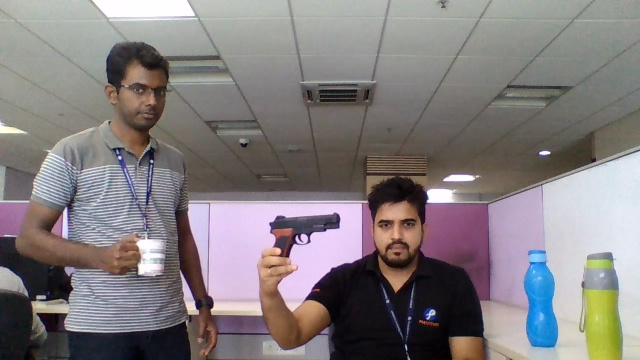gun: (269, 212, 341, 247)
